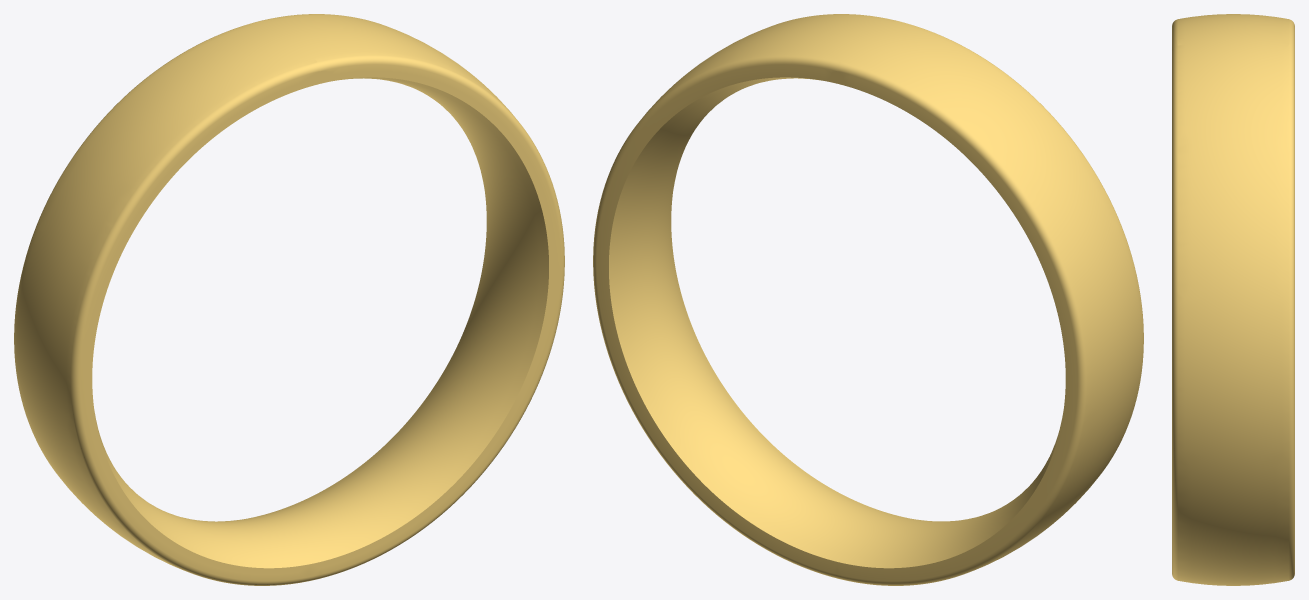
The model's file is Eric_his_YG_blender.glb.
3 views of the same model, side by side, from view 1: azimuth 30°, elevation 25°; view 2: azimuth 150°, elevation 25°; view 3: azimuth 270°, elevation 25° (orthographic).
Parts seen in each view (by area): view 1: Eric his YG for 3d model; view 2: Eric his YG for 3d model; view 3: Eric his YG for 3d model.
Part boxes in pixels (bbox=[...]): Eric his YG for 3d model: bbox=[14, 14, 564, 585]; Eric his YG for 3d model: bbox=[593, 14, 1143, 585]; Eric his YG for 3d model: bbox=[1172, 14, 1294, 585].
Bounding box in the file's own units: 22.8 × 22.8 × 4.9.
